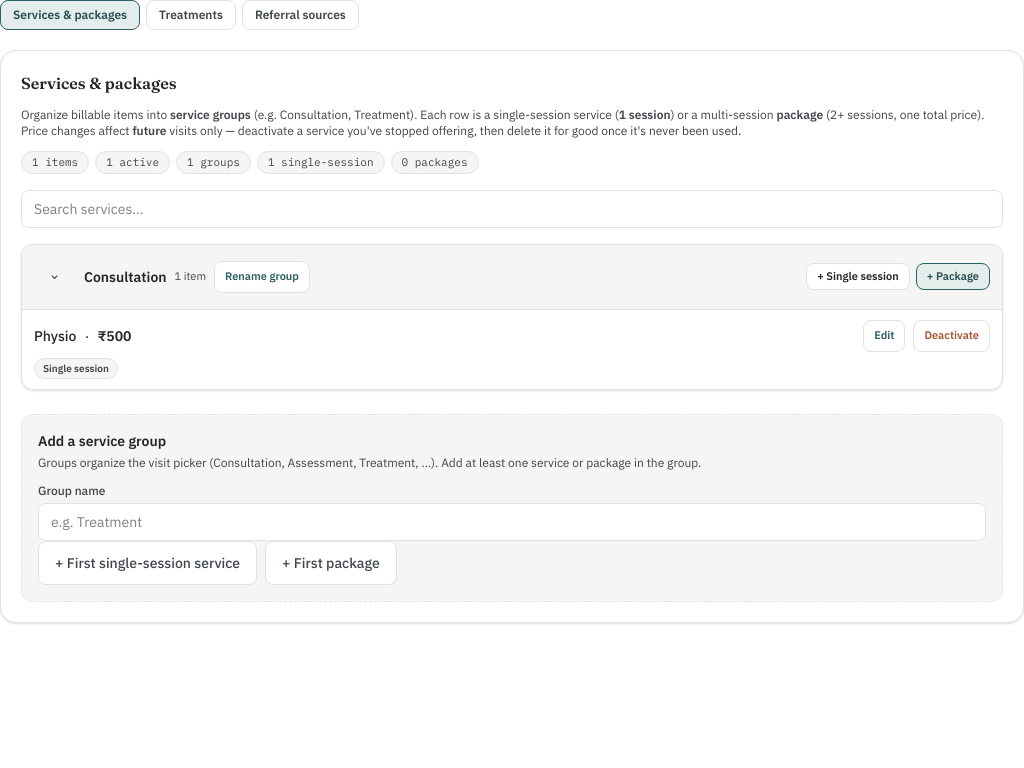
Test: ServiceCatalog — optional duration › rejects 0 without saving
Step 1. Click the button "Edit" → (884, 336), box [863,320,905,352]
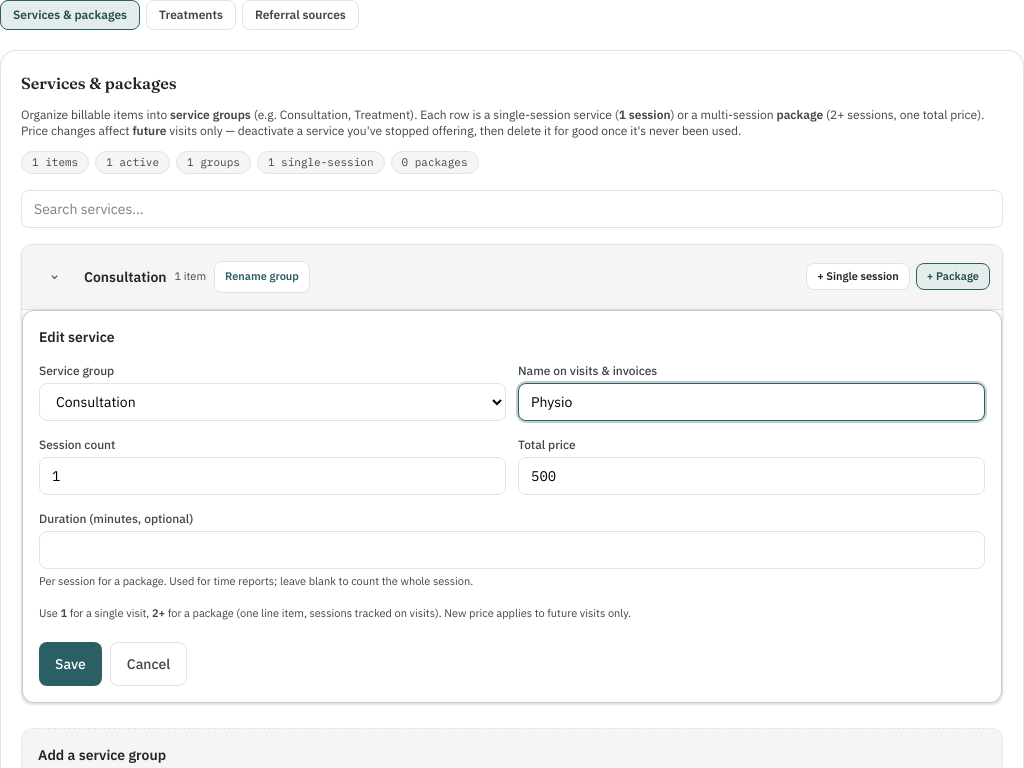
Step 2. Type "0" into the number field labelled "Duration (minutes, optional)" → (512, 550), box [39,530,985,568]
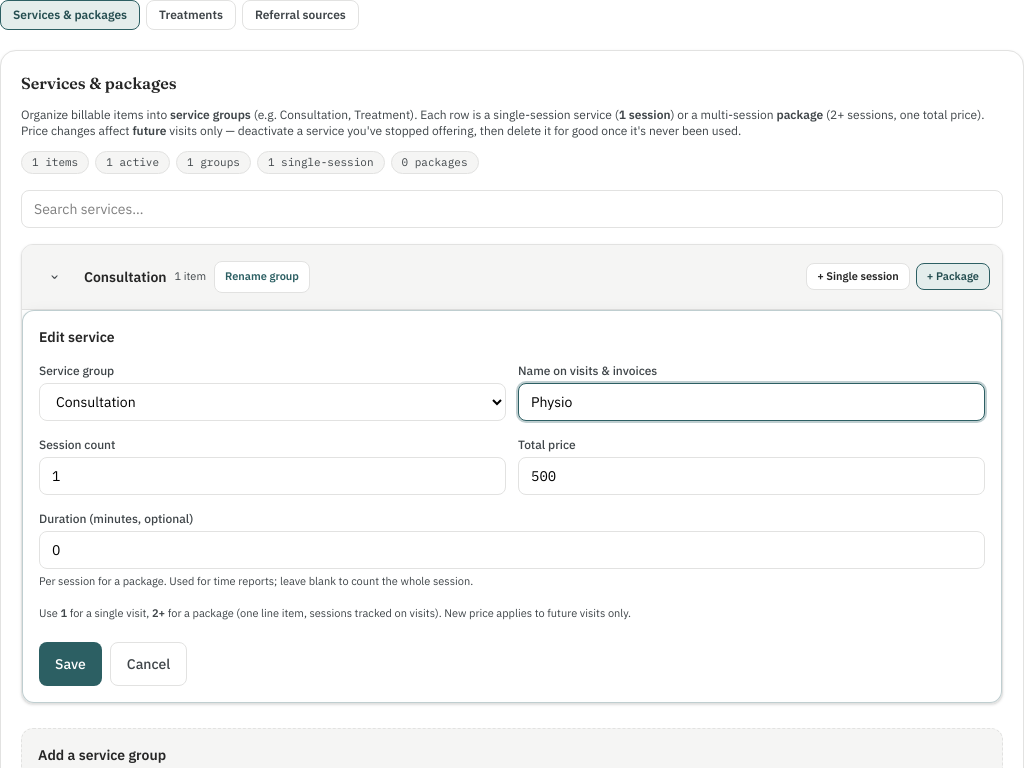
Step 3. Click the button "Save" → (70, 664), box [39,642,102,686]
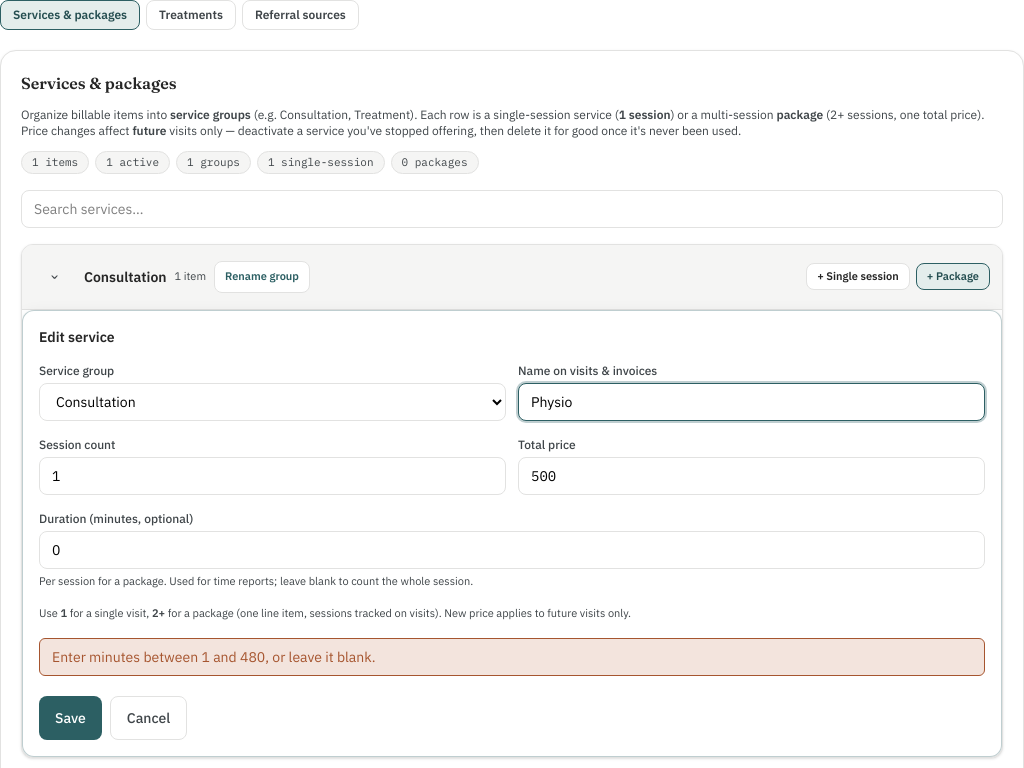
Now the text "Enter minutes between 1 and 480, or leave it blank." is shown, box [39,638,985,676]
